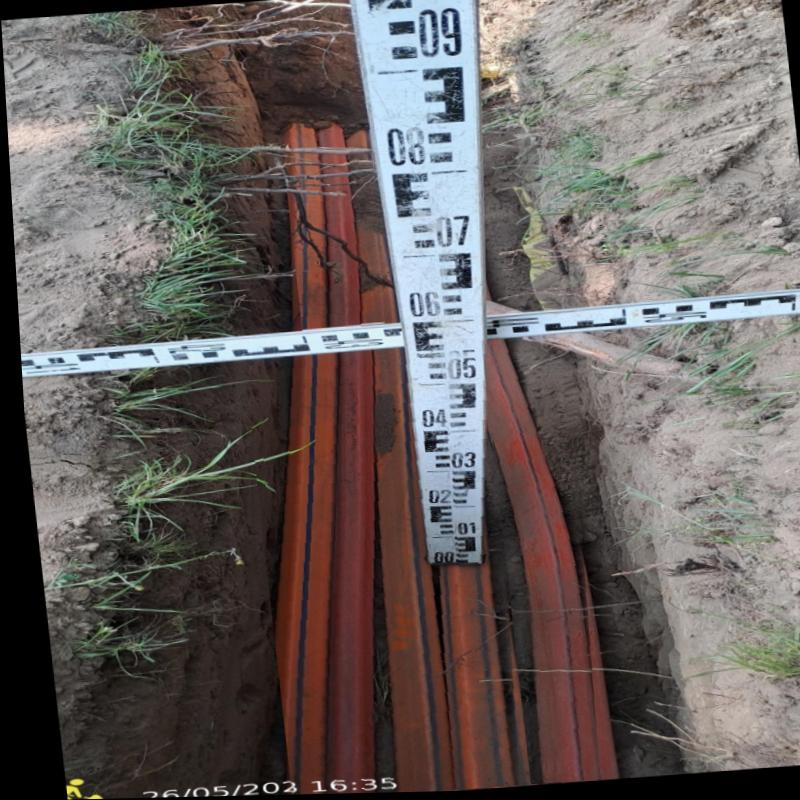Orang-Speednetrohrchen: (272, 355, 514, 796), (483, 342, 594, 786), (288, 126, 384, 332)
